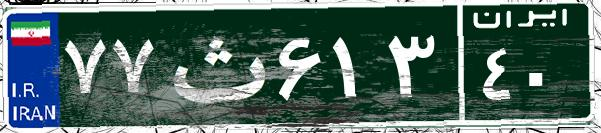0: (525, 38, 570, 115)
1: (330, 28, 385, 110)
3: (385, 28, 445, 110)
4: (475, 38, 525, 113)
6: (273, 28, 330, 110)
7: (57, 26, 110, 107), (110, 28, 158, 105)
ث: (158, 15, 273, 115)
